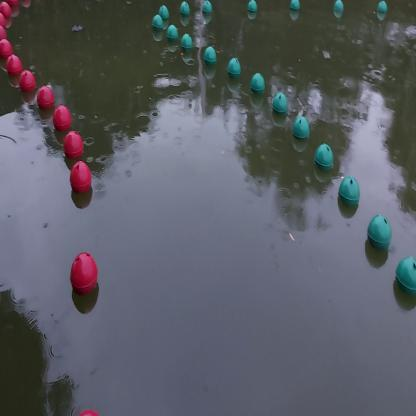green_buoy: (366, 215, 392, 259), (394, 253, 415, 306), (338, 176, 361, 215), (313, 141, 335, 178), (226, 53, 244, 89), (292, 114, 312, 146), (202, 43, 217, 76), (272, 90, 288, 120), (249, 72, 266, 100), (181, 30, 192, 52), (333, 0, 345, 20), (202, 0, 214, 20), (377, 0, 388, 20), (153, 15, 163, 37), (158, 4, 168, 25), (180, 2, 191, 20), (290, 0, 301, 17), (168, 22, 177, 42), (248, 0, 257, 14)
red_buoy: (70, 248, 98, 302), (71, 160, 91, 199), (65, 129, 85, 165), (37, 84, 55, 118), (54, 105, 70, 141), (18, 68, 35, 100), (6, 54, 22, 82), (0, 38, 13, 62), (1, 1, 13, 26), (0, 9, 6, 26)
